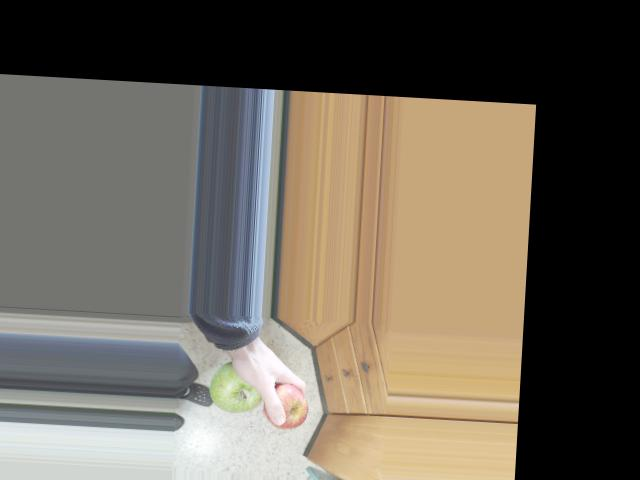apple: (204, 355, 266, 417)
